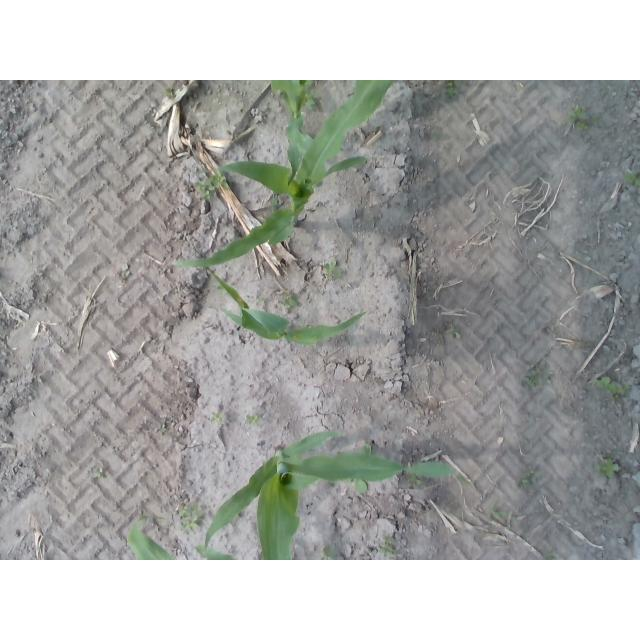Maize: (170, 81, 398, 268), (202, 432, 473, 560), (205, 265, 366, 347), (126, 514, 284, 560), (269, 80, 316, 185)
Weeds: (196, 170, 228, 199), (594, 377, 631, 400), (522, 361, 552, 388), (178, 505, 203, 532), (594, 458, 619, 479), (568, 106, 589, 131), (443, 80, 462, 102), (519, 469, 541, 487), (379, 535, 397, 557), (345, 478, 368, 495), (325, 260, 344, 280), (302, 90, 319, 110), (282, 291, 299, 310), (624, 167, 640, 185), (321, 545, 339, 560), (447, 323, 461, 339), (247, 412, 261, 424), (407, 473, 421, 485), (490, 507, 502, 520), (212, 413, 225, 424), (217, 282, 228, 295), (270, 196, 278, 212), (544, 550, 556, 560), (165, 87, 175, 98), (92, 467, 103, 477), (361, 443, 372, 453), (591, 115, 598, 128), (125, 272, 131, 277)
